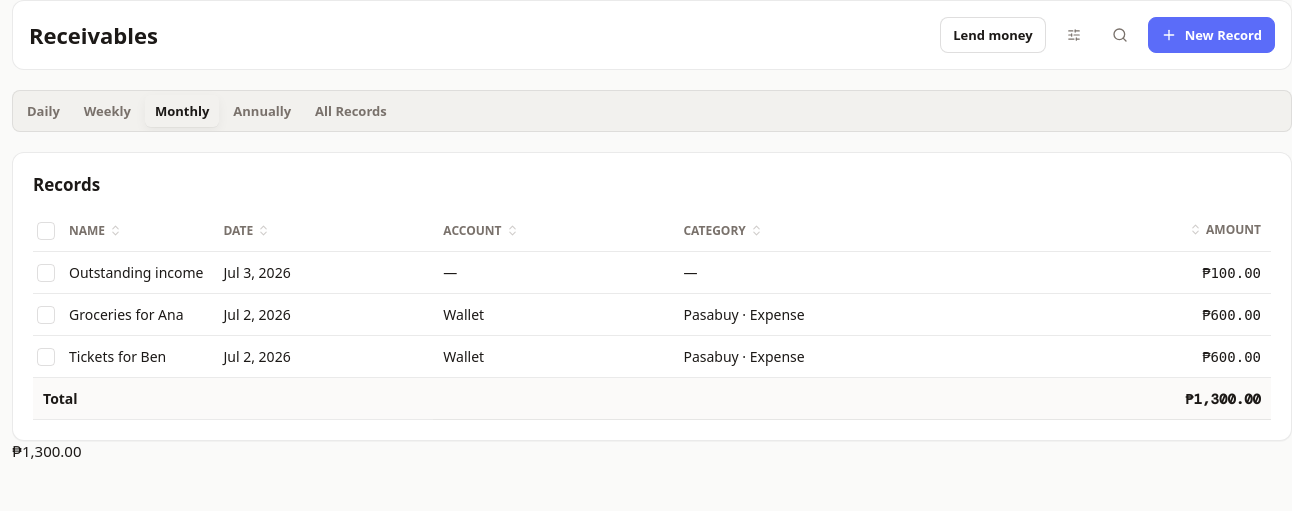
Test case: Receivables Pasabuy details and selection › shows Bulk Pasabuy only for an all-Pasabuy selection, with Income actions kept on Income selections
Expected: the text "Groceries for Ana" is shown, [33, 294, 214, 336]
Click the button named "Select row" next to "Groceries for Ana" at (46, 314), box [37, 306, 55, 324]
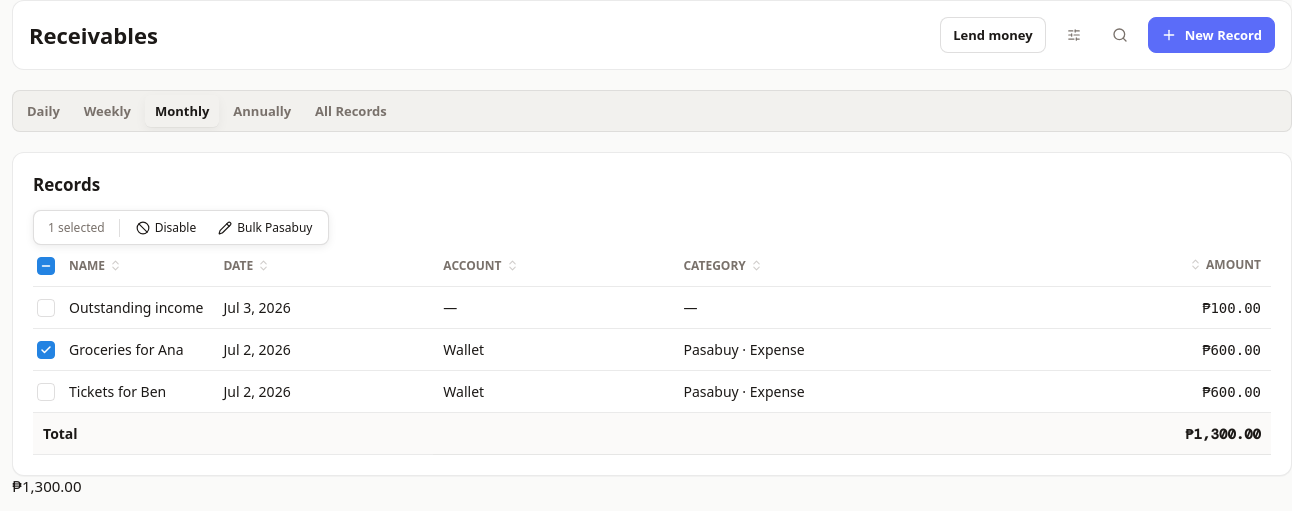
Expected: the button "Duplicate" is not shown
Now the button "Bulk Pasabuy" is shown, box [208, 215, 322, 240]
Click the button named "Select row" next to "Outstanding income" at (46, 308), box [37, 298, 55, 316]
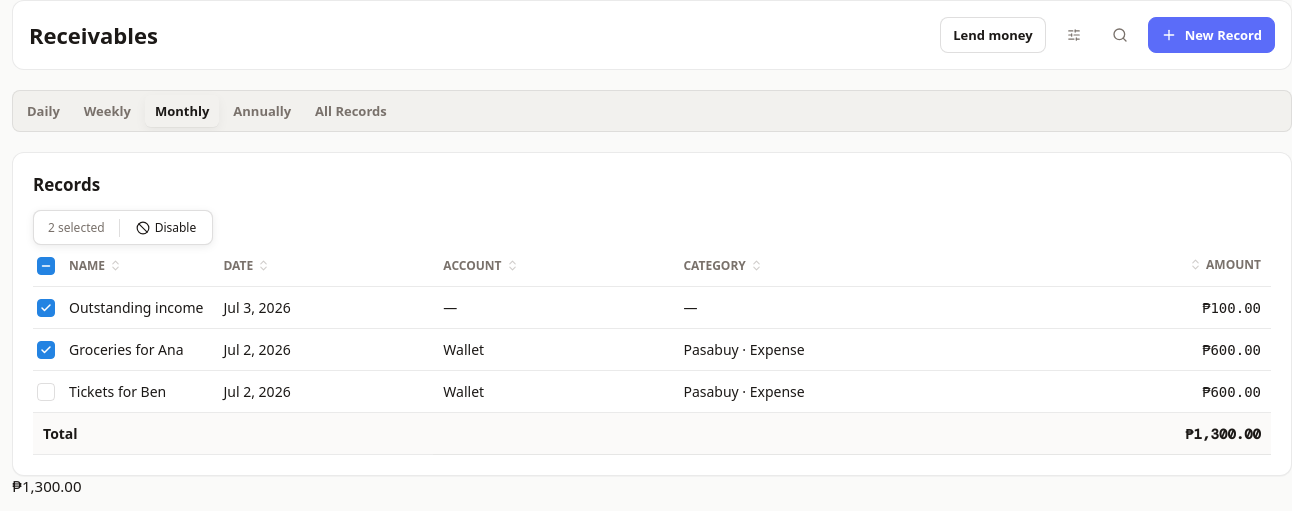
Now the button "Bulk Pasabuy" is gone
Click the button named "Select row" next to "Groceries for Ana" at (46, 350), box [37, 340, 55, 358]
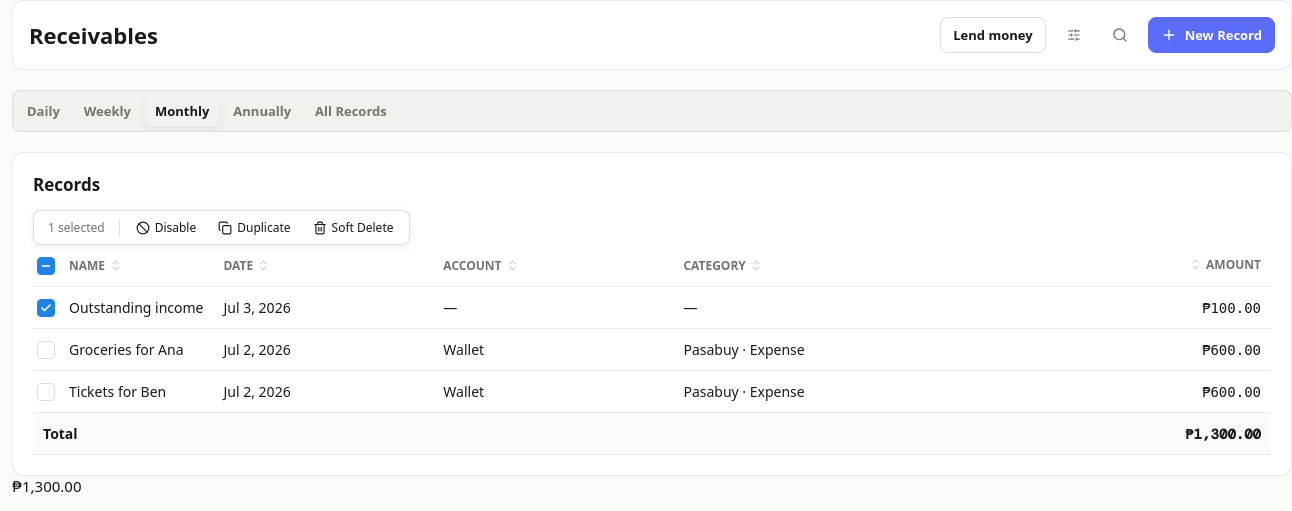
Now the button "Duplicate" is shown, box [208, 215, 300, 240]
Now the button "Soft Delete" is shown, box [303, 215, 404, 240]
